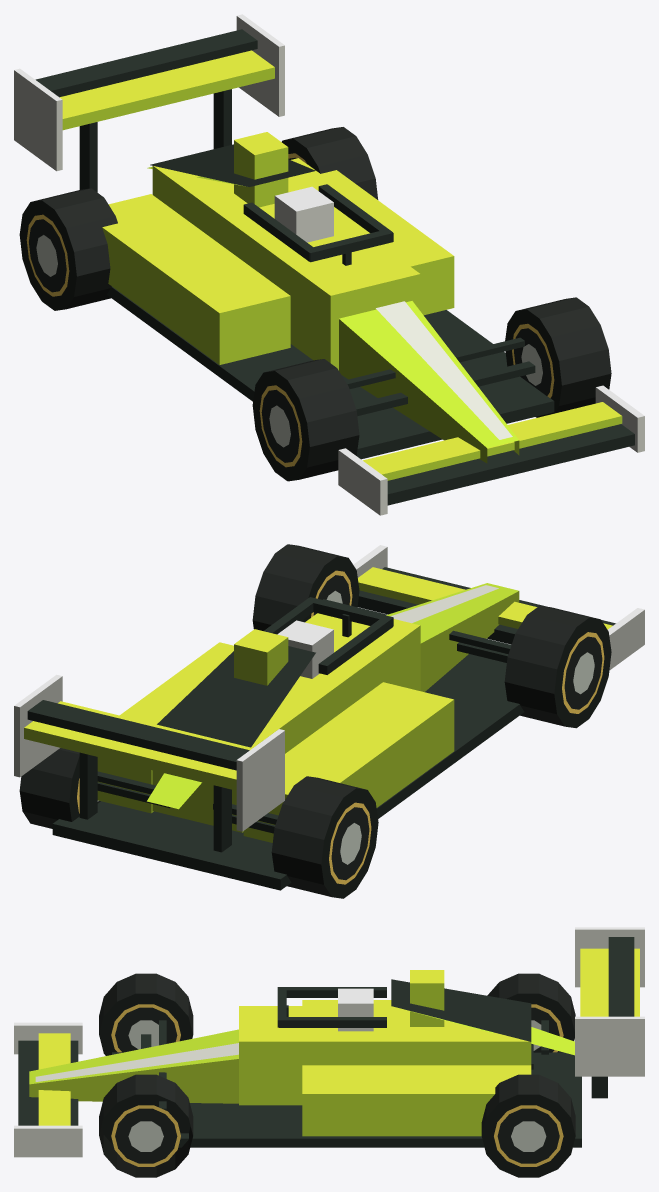
Rendered from apex-v26.obj.
3 views of the same model, one above another, from view 1: azimuth 30°, elevation 25°; view 2: azimuth 150°, elevation 25°; view 3: azimuth 270°, elevation 25° (orthographic). The views are drawn at different scales.
Visible parts, largest first — view 1: V26; view 2: V26; view 3: V26.
Boxes of the visible parts, box(x1,y1,x2,y2) form: V26: box(14, 14, 644, 515); V26: box(14, 544, 644, 898); V26: box(14, 927, 644, 1177).
Size of the model in its own units: 2.27 by 1.25 by 4.96.
